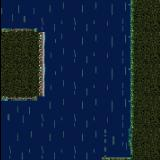Interaction: (118, 0, 144, 160), (94, 146, 117, 160)
Slow: (0, 100, 127, 160), (44, 31, 128, 100), (0, 0, 127, 30)
